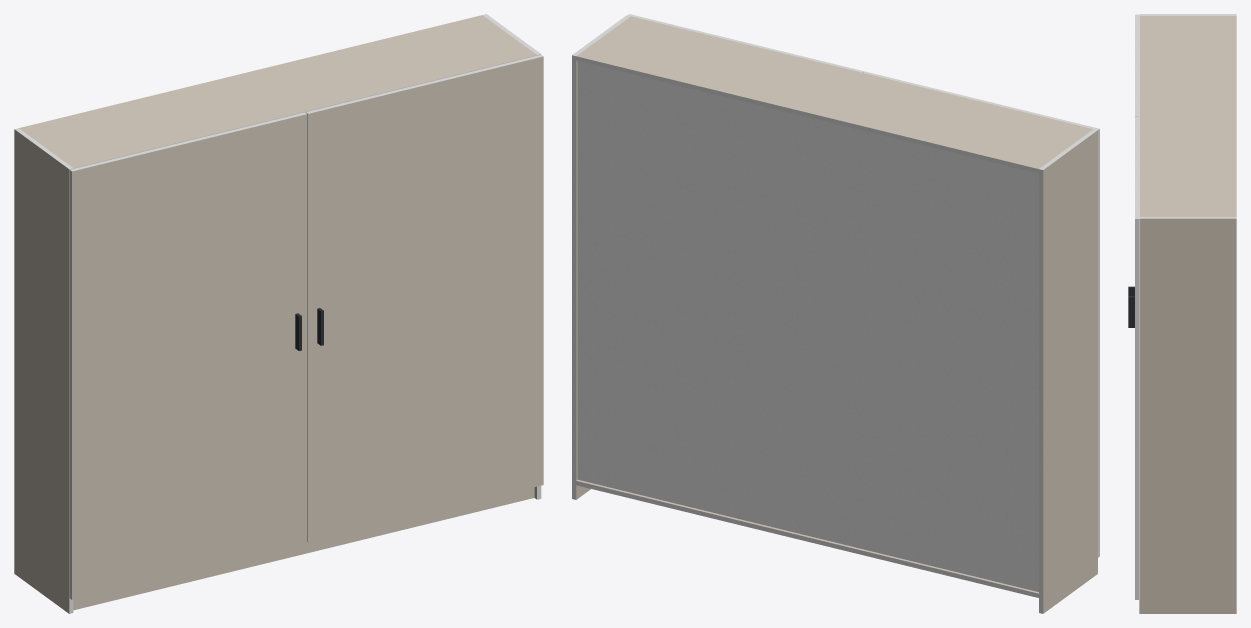
Rendered from CAL-MDU-std.glb.
3 views of the same model, side by side, from view 1: azimuth 30°, elevation 25°; view 2: azimuth 150°, elevation 25°; view 3: azimuth 270°, elevation 25° (orthographic). The views are drawn at different scales.
Visible parts, largest first — view 1: door-r:pbr, door-l:pbr, top:pbr, side-l:pbr, plinth:pbr, door-l:sheet:eyJtIjoibWRmIiwic2lkZSI6ImVkZ2UtbG9uZyIsInNlZWQ; view 2: back:sheet:eyJtIjoibWRmIiwic2lkZSI6ImZhY2UiLCJzZWVkIjoxLCJ0a, top:pbr, side-l:pbr, bottom:sheet:eyJtIjoibWRmIiwic2lkZSI6ImVkZ2UtbG9uZyIsInNlZWQ, top:sheet:eyJtIjoibWRmIiwic2lkZSI6ImVkZ2UtbG9uZyIsInNlZWQiOj, side-l:sheet:eyJtIjoibWRmIiwic2lkZSI6ImVkZ2UtbG9uZyIsInNlZWQ, side-r:sheet:eyJtIjoibWRmIiwic2lkZSI6ImVkZ2UtbG9uZyIsInNlZWQ, bottom:pbr, side-r:pbr, door-l:sheet:eyJtIjoibWRmIiwic2lkZSI6ImVkZ2UtbG9uZyIsInNlZWQ; view 3: side-r:pbr, top:pbr, door-r:sheet:eyJtIjoibWRmIiwic2lkZSI6ImVkZ2UtbG9uZyIsInNlZWQ, door-l:sheet:eyJtIjoibWRmIiwic2lkZSI6ImVkZ2UtZW5kIiwic2VlZCI, door-r:sheet:eyJtIjoibWRmIiwic2lkZSI6ImVkZ2UtZW5kIiwic2VlZCI, pull, side-l:sheet:eyJtIjoibWRmIiwic2lkZSI6ImVkZ2UtZW5kIiwic2VlZCI, side-r:sheet:eyJtIjoibWRmIiwic2lkZSI6ImVkZ2UtZW5kIiwic2VlZCI.
Boxes of the visible parts, x1,y1,x2,y2 form: door-r:pbr: [308, 56, 543, 542]; door-l:pbr: [72, 114, 307, 599]; top:pbr: [19, 15, 536, 168]; side-l:pbr: [14, 129, 69, 613]; plinth:pbr: [73, 487, 534, 610]; door-l:sheet:eyJtIjoibWRmIiwic2lkZSI6ImVkZ2UtbG9uZyIsInNlZWQ: [69, 170, 71, 599]; back:sheet:eyJtIjoibWRmIiwic2lkZSI6ImZhY2UiLCJzZWVkIjoxLCJ0a: [577, 61, 1038, 591]; top:pbr: [576, 16, 1093, 168]; side-l:pbr: [1043, 130, 1097, 613]; bottom:sheet:eyJtIjoibWRmIiwic2lkZSI6ImVkZ2UtbG9uZyIsInNlZWQ: [576, 481, 1038, 597]; top:sheet:eyJtIjoibWRmIiwic2lkZSI6ImVkZ2UtbG9uZyIsInNlZWQiOj: [576, 56, 1038, 173]; side-l:sheet:eyJtIjoibWRmIiwic2lkZSI6ImVkZ2UtbG9uZyIsInNlZWQ: [1039, 169, 1043, 613]; side-r:sheet:eyJtIjoibWRmIiwic2lkZSI6ImVkZ2UtbG9uZyIsInNlZWQ: [572, 55, 576, 499]; bottom:pbr: [576, 480, 1038, 593]; side-r:pbr: [576, 61, 590, 499]; door-l:sheet:eyJtIjoibWRmIiwic2lkZSI6ImVkZ2UtbG9uZyIsInNlZWQ: [1098, 129, 1099, 557]; side-r:pbr: [1139, 218, 1236, 613]; top:pbr: [1139, 16, 1236, 216]; door-r:sheet:eyJtIjoibWRmIiwic2lkZSI6ImVkZ2UtbG9uZyIsInNlZWQ: [1135, 219, 1138, 599]; door-l:sheet:eyJtIjoibWRmIiwic2lkZSI6ImVkZ2UtZW5kIiwic2VlZCI: [1135, 14, 1138, 116]; door-r:sheet:eyJtIjoibWRmIiwic2lkZSI6ImVkZ2UtZW5kIiwic2VlZCI: [1135, 117, 1138, 218]; pull: [1128, 286, 1134, 327]; side-l:sheet:eyJtIjoibWRmIiwic2lkZSI6ImVkZ2UtZW5kIiwic2VlZCI: [1139, 14, 1236, 15]; side-r:sheet:eyJtIjoibWRmIiwic2lkZSI6ImVkZ2UtZW5kIiwic2VlZCI: [1139, 217, 1236, 218].
Size of the model in its own units: 2 by 1.8 by 0.4468.
Materials: 34 (23 with a texture image).
